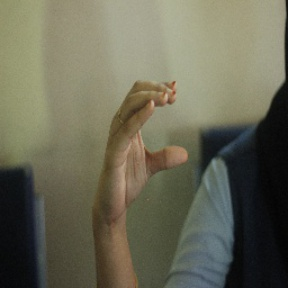C: (104, 71, 194, 186)
